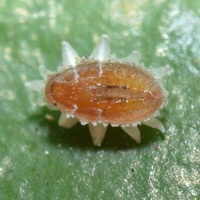insect: (45, 35, 164, 147)
